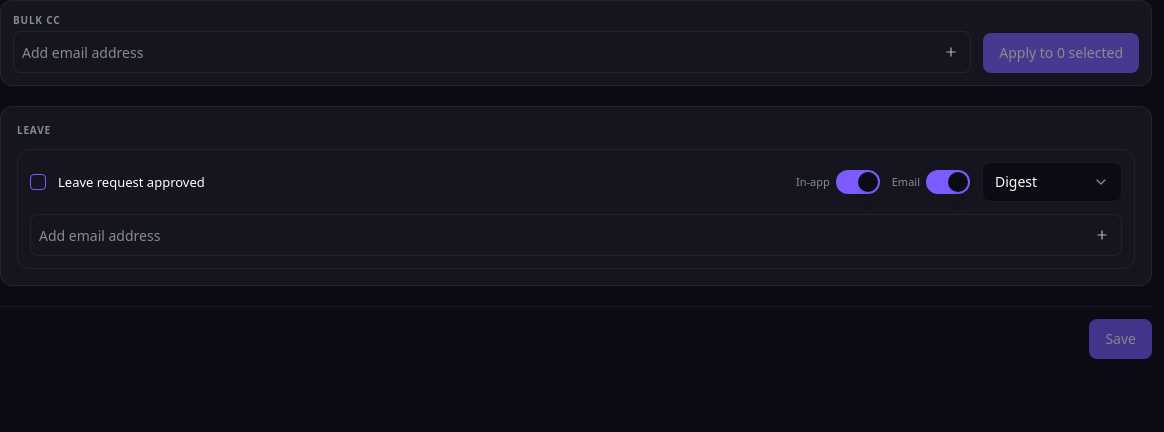
Test case: NotificationRoutingTab — digest/CC guard › flips a digest row to Auto when a CC is added, and shows an inline note
Check: the text "Leave request approved" is shown, box [58,173,205,191]
Check: the text "switched to auto" is not shown
In the field with placeholder "Add email address": (562, 235) [39,221,1085,249], type "hr@provintell.com"
Then press Enter
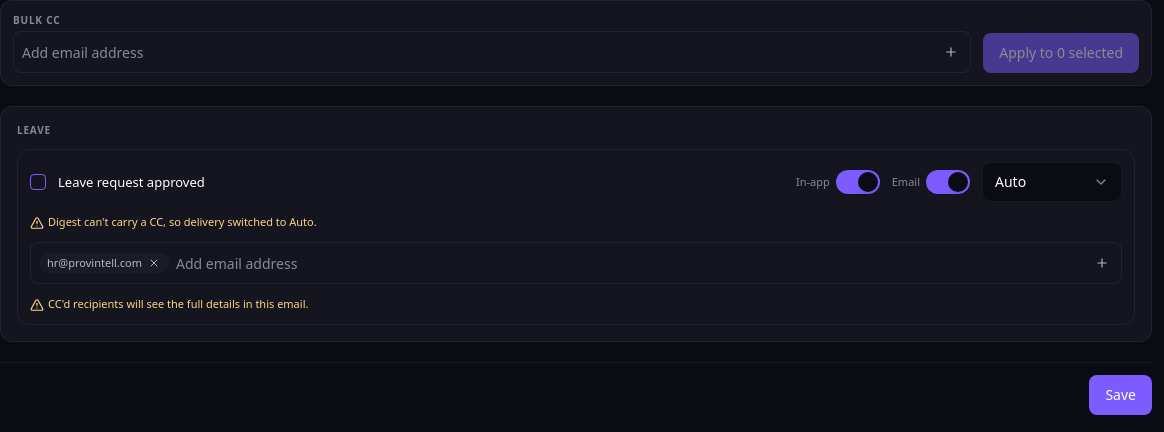
Check: the text "Digest can't carry a CC, so delivery switched to Auto." is shown, box [48,214,317,230]
